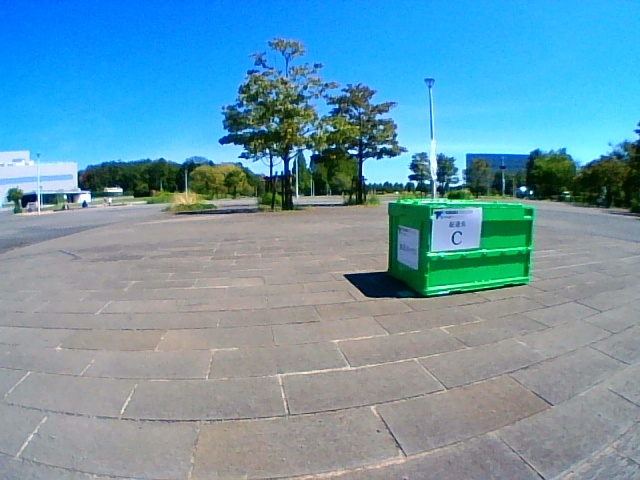green_box: (388, 198, 534, 295)
tag_c: (433, 210, 479, 248)
